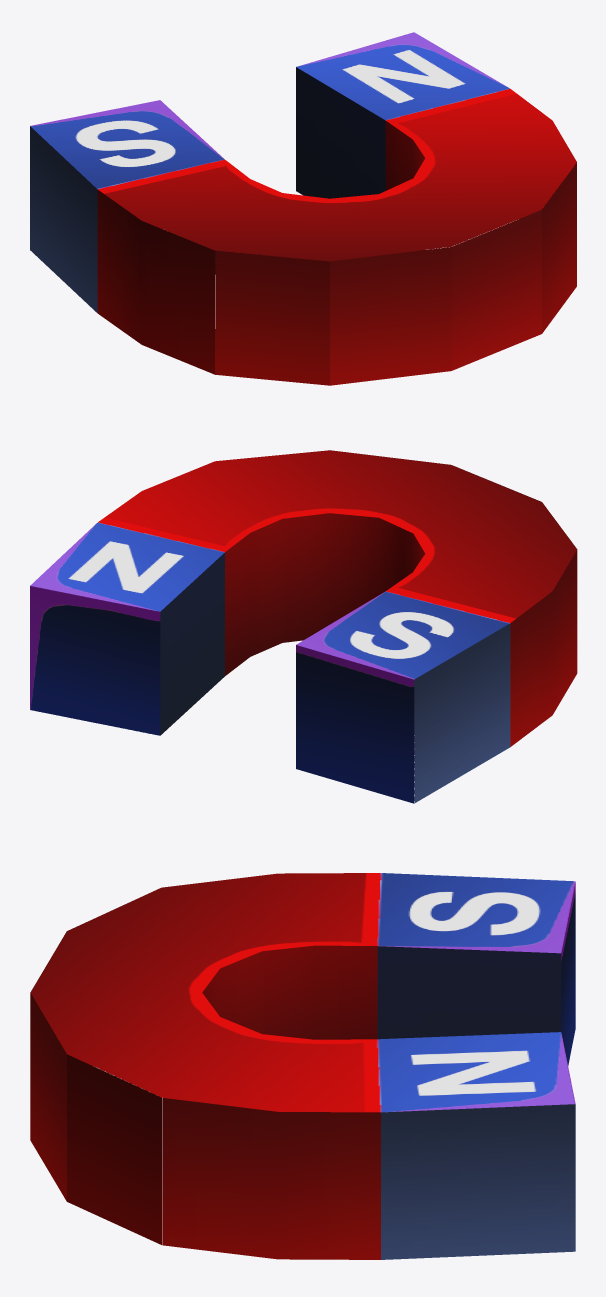
Rendered from MagnetFx.FBX.
The picture shows the model from 3 angles, top to bottom: view 1: azimuth 30°, elevation 25°; view 2: azimuth 150°, elevation 25°; view 3: azimuth 270°, elevation 25°; orthographic projection. The views are drawn at different scales.
Parts seen in each view (by area): view 1: Box007; view 2: Box007; view 3: Box007.
Part boxes in pixels (left/top/right/bottom): Box007: left=30, top=32, right=576, bottom=385; Box007: left=30, top=450, right=577, bottom=803; Box007: left=30, top=873, right=575, bottom=1259.
Bounding box in the file's own units: 18.86 × 6.29 × 18.13.
